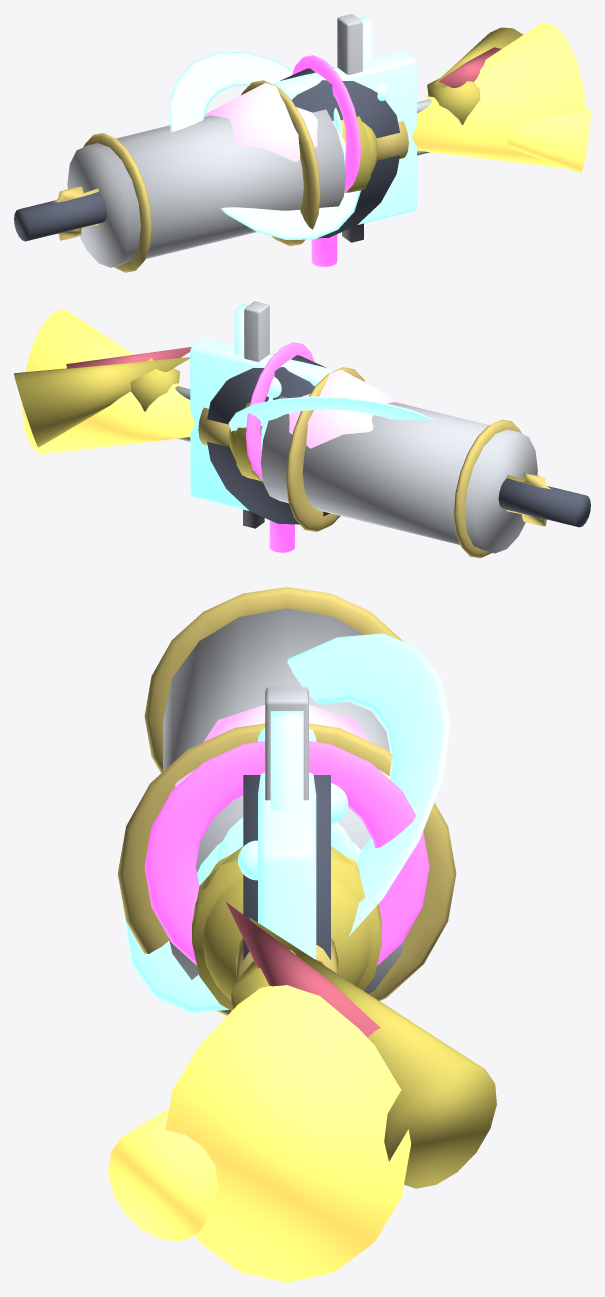
Rendered from weapons.glb.
3 views of the same model, one above another, from view 1: azimuth 30°, elevation 25°; view 2: azimuth 150°, elevation 25°; view 3: azimuth 270°, elevation 25° (orthographic). The views are drawn at different scales.
Visible parts, largest first — view 1: Weapon_ArmCannon, Weapon_FireBroom, Weapon_Crystal, Weapon_Shovel, Weapon_Yardstick, Weapon_FryingPan, Weapon_JudgeHammer, Weapon_Squeegee, Weapon_Pill; view 2: Weapon_ArmCannon, Weapon_FireBroom, Weapon_Crystal, Weapon_Shovel, Weapon_Yardstick, Weapon_FryingPan, Weapon_JudgeHammer, Weapon_Squeegee, Weapon_Pill; view 3: Weapon_FireBroom, Weapon_ArmCannon, Weapon_Crystal, Weapon_JudgeHammer, Weapon_Pill, Weapon_Shovel, Weapon_Yardstick, Weapon_Squeegee, Weapon_FryingPan.
Boxes of the visible parts, x1,y1,x2,y2 form: Weapon_ArmCannon: [67, 80, 345, 267]; Weapon_FireBroom: [377, 22, 590, 172]; Weapon_Crystal: [169, 52, 360, 239]; Weapon_Shovel: [274, 51, 416, 224]; Weapon_Yardstick: [14, 133, 151, 272]; Weapon_FryingPan: [280, 67, 399, 238]; Weapon_JudgeHammer: [292, 55, 360, 266]; Weapon_Squeegee: [337, 14, 389, 242]; Weapon_Pill: [340, 116, 377, 192]; Weapon_ArmCannon: [260, 367, 537, 553]; Weapon_FireBroom: [14, 309, 229, 454]; Weapon_Crystal: [228, 369, 433, 448]; Weapon_Shovel: [190, 338, 332, 510]; Weapon_Yardstick: [453, 419, 590, 558]; Weapon_FryingPan: [207, 354, 329, 524]; Weapon_JudgeHammer: [246, 342, 314, 552]; Weapon_Squeegee: [234, 301, 281, 528]; Weapon_Pill: [229, 403, 262, 481]; Weapon_FireBroom: [108, 902, 496, 1282]; Weapon_ArmCannon: [117, 608, 456, 1015]; Weapon_Crystal: [123, 633, 450, 1012]; Weapon_JudgeHammer: [144, 741, 429, 965]; Weapon_Pill: [192, 846, 381, 1010]; Weapon_Shovel: [258, 728, 316, 959]; Weapon_Yardstick: [144, 587, 402, 773]; Weapon_Squeegee: [237, 687, 348, 880]; Weapon_FryingPan: [243, 775, 330, 959].
Bounding box in the file's own units: 3.42 × 1.42 × 1.06.
